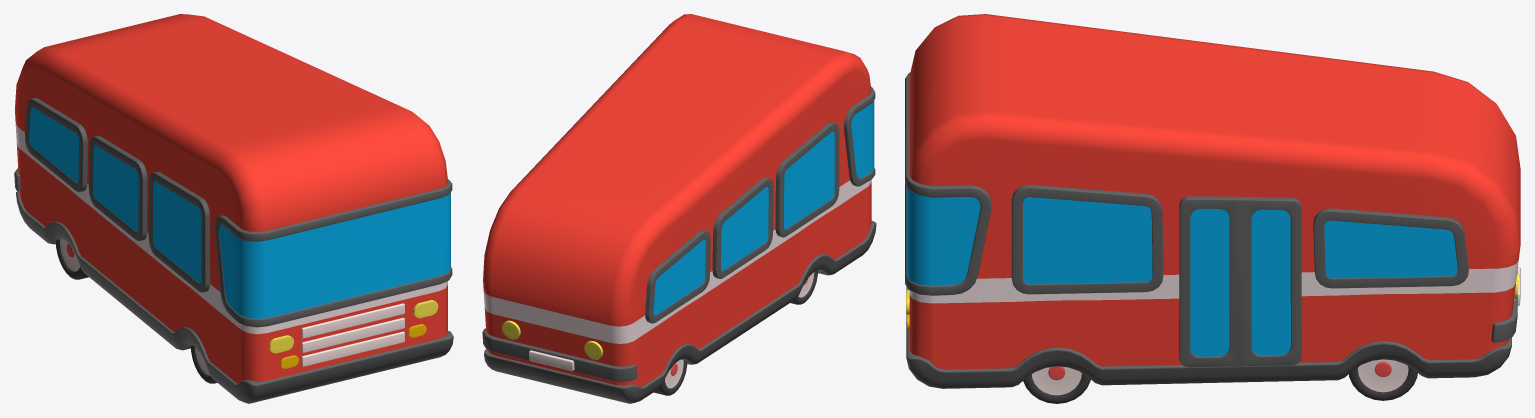
Rendered from City_7_Bus_1.glb.
3 views of the same model, side by side, from view 1: azimuth 30°, elevation 25°; view 2: azimuth 150°, elevation 25°; view 3: azimuth 270°, elevation 25° (orthographic). The views are drawn at different scales.
Visible parts, largest first — view 1: City_7_Bus_1; view 2: City_7_Bus_1; view 3: City_7_Bus_1.
Boxes of the visible parts, x1,y1,x2,y2 form: City_7_Bus_1: [14, 14, 453, 403]; City_7_Bus_1: [482, 14, 876, 403]; City_7_Bus_1: [905, 14, 1520, 403].
Bounding box in the file's own units: 3.8 × 4.33 × 8.23.
1 material, 1 textured.
